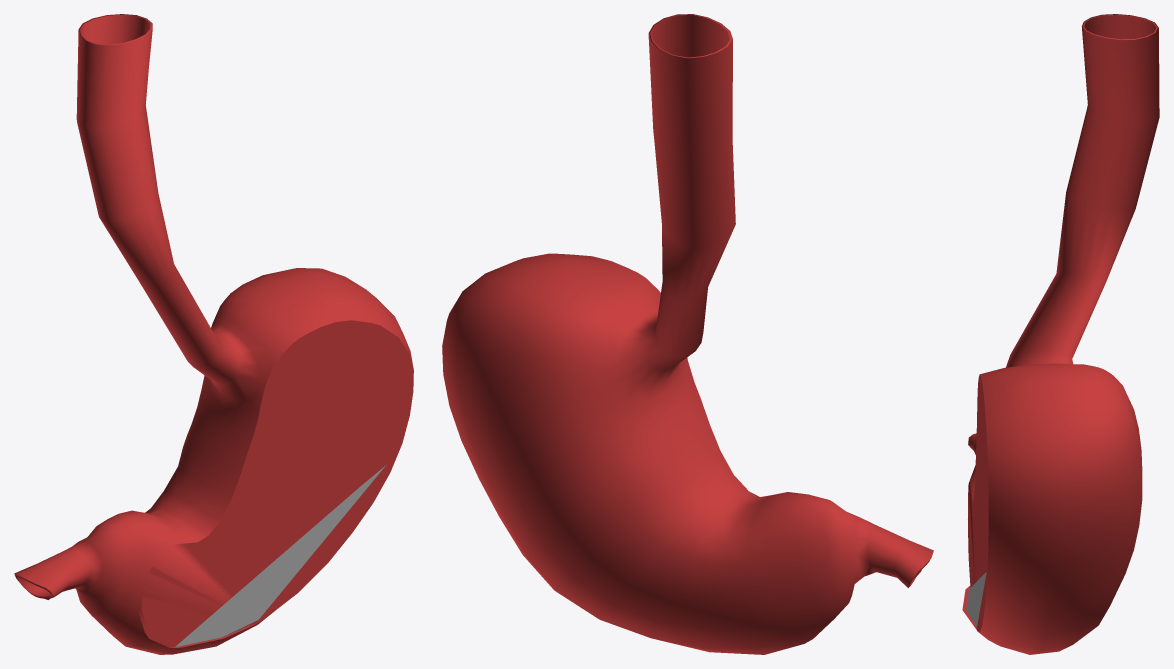
Rendered from stomach and hcl.fbx.
3 views of the same model, side by side, from view 1: azimuth 30°, elevation 25°; view 2: azimuth 150°, elevation 25°; view 3: azimuth 270°, elevation 25° (orthographic). The views are drawn at different scales.
Parts seen in each view (by area): view 1: Stomach, Hcl; view 2: Stomach; view 3: Stomach, Hcl.
Part boxes in pixels (x1,y1,x2,y2): Stomach: [14, 14, 413, 654]; Hcl: [176, 465, 385, 646]; Stomach: [442, 14, 933, 654]; Stomach: [962, 14, 1159, 654]; Hcl: [966, 572, 986, 626].
Size of the model in its own units: 40.37 by 56.92 by 17.1.
